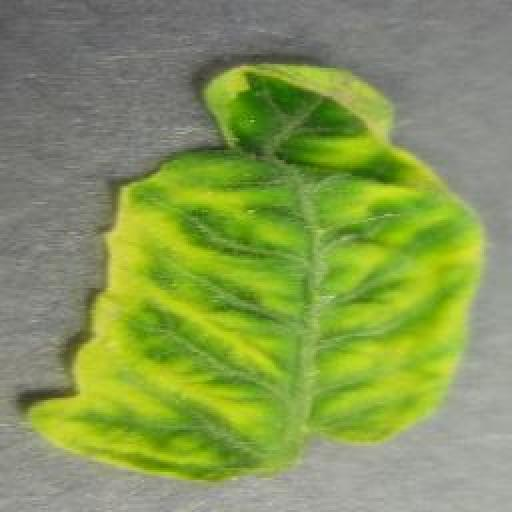disease_tomato: (23, 62, 485, 490)
